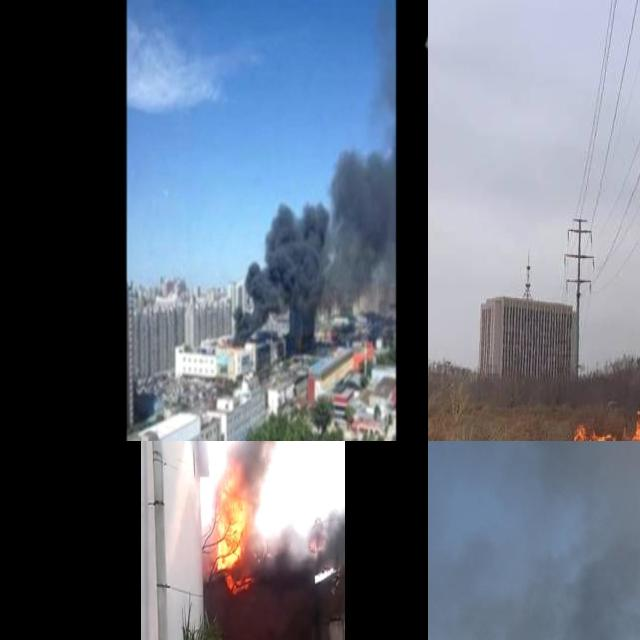fire: (214, 467, 251, 575)
smoke: (428, 441, 640, 640), (234, 142, 396, 344), (206, 441, 341, 496)
